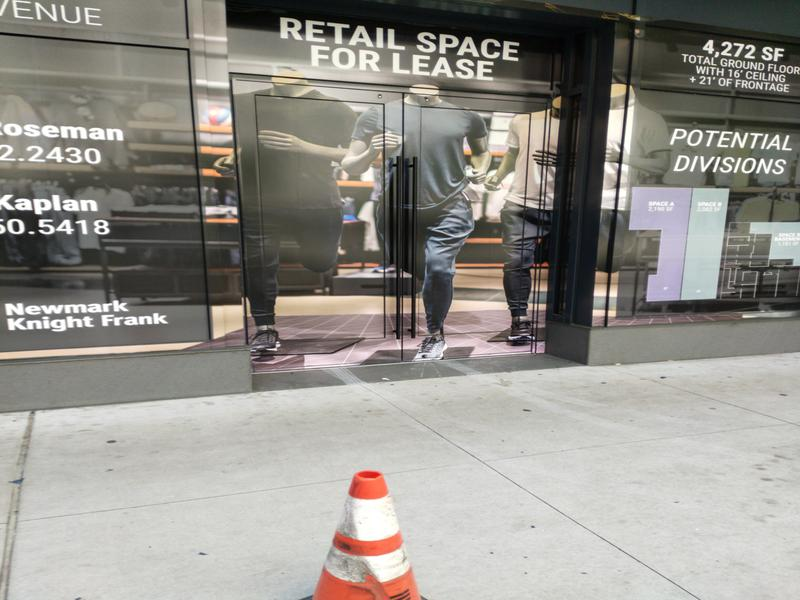double_door: (227, 70, 563, 360)
